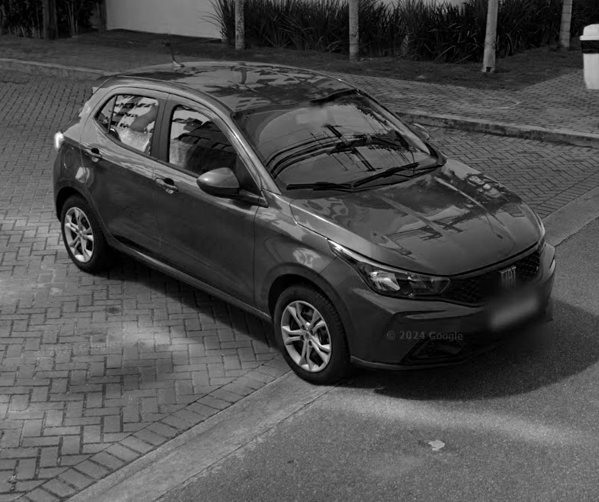car: (49, 39, 560, 387)
